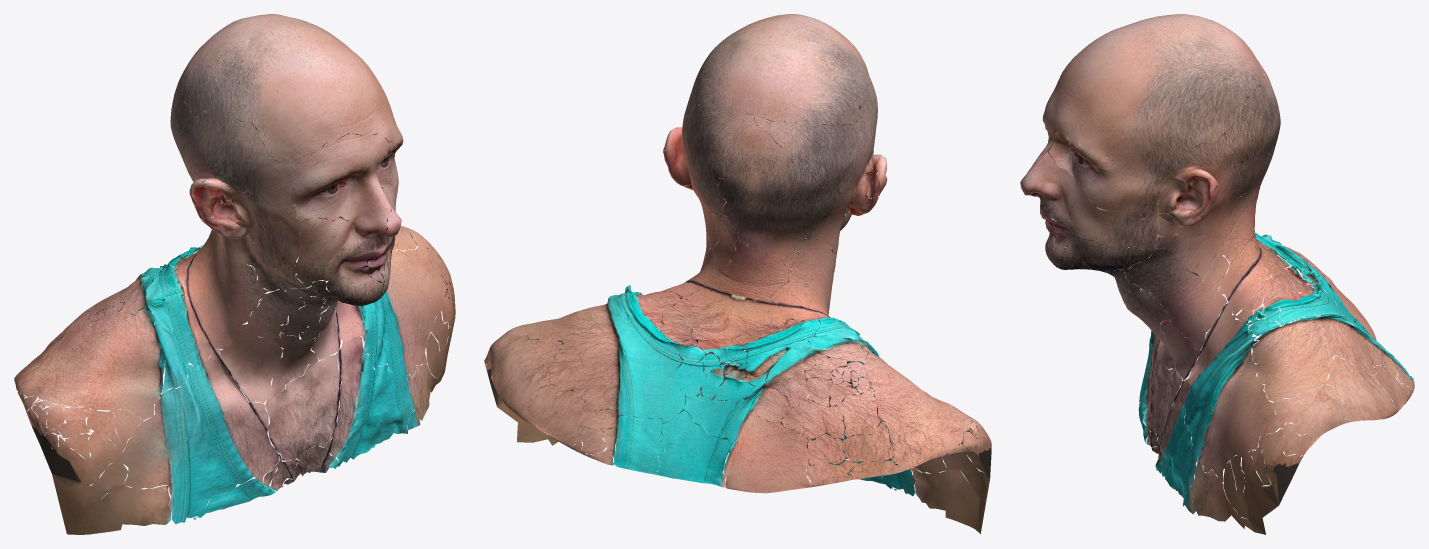
File: man_head_3.obj
3 renders of one model, left to right at view 1: azimuth 30°, elevation 25°; view 2: azimuth 150°, elevation 25°; view 3: azimuth 270°, elevation 25°, orthographic. The views are drawn at different scales.
Size of the model in its own units: 1.06 by 1.01 by 0.8315.
1 material, 1 textured.
